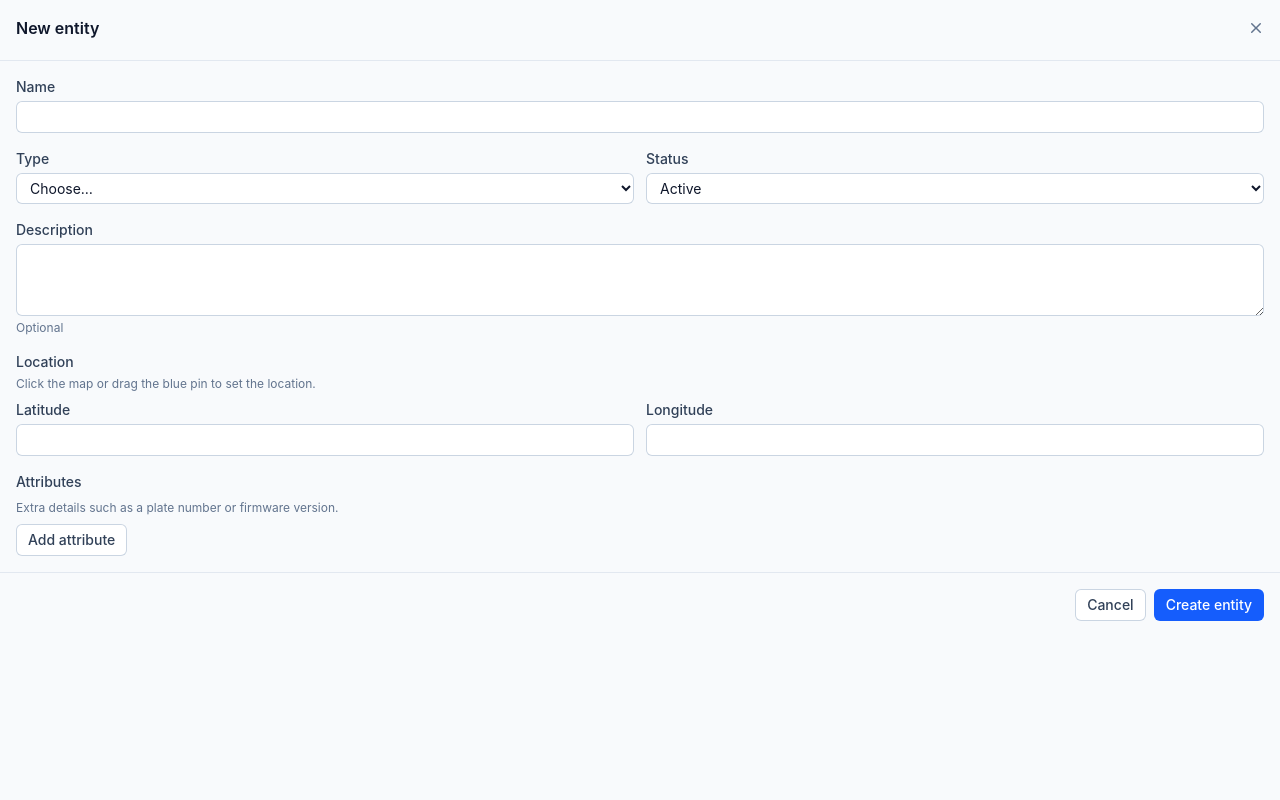
Test: EntityForm › shows every client-side error and does not submit
Click the button "Create entity": (1209, 605) x1=1154 y1=589 x2=1264 y2=621
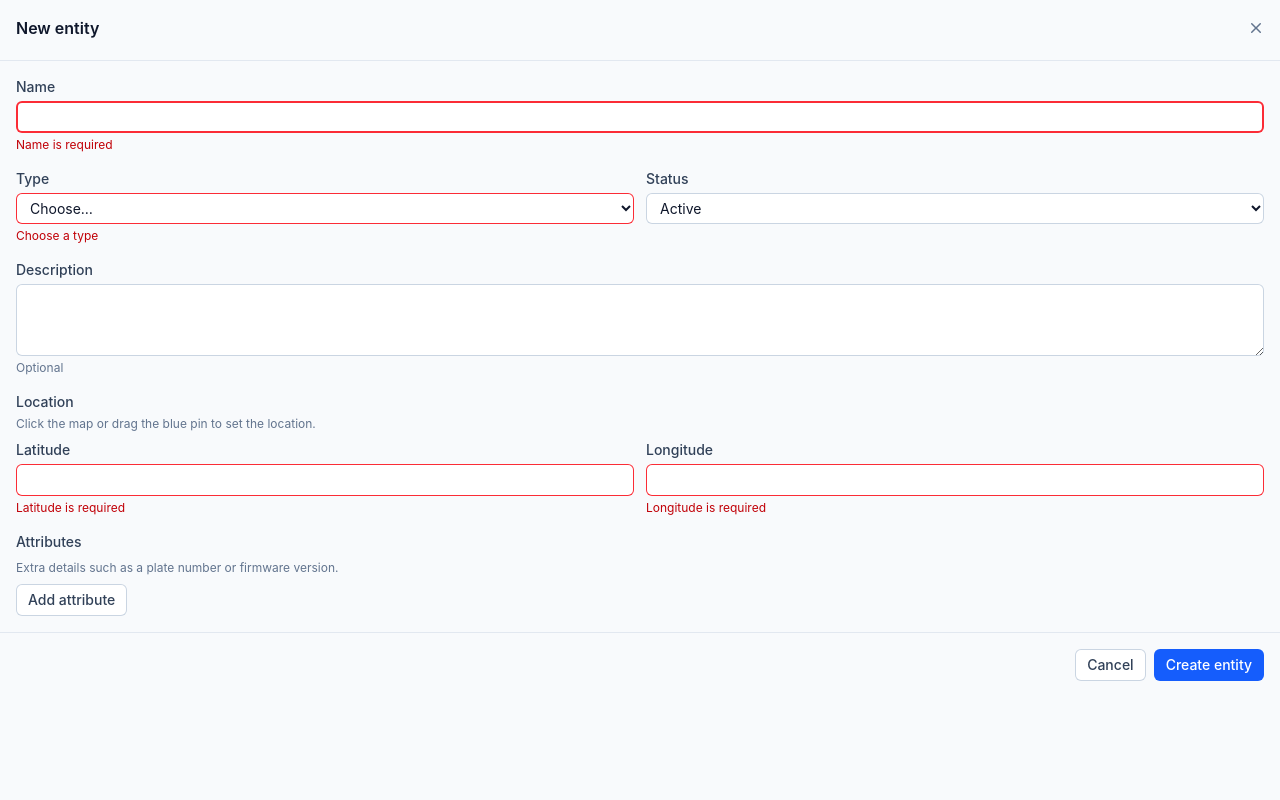
Now the text "Name is required" is shown, box x1=16 y1=137 x2=113 y2=152
Now the text "Choose a type" is shown, box x1=16 y1=228 x2=98 y2=243
Now the text "Latitude is required" is shown, box x1=16 y1=500 x2=125 y2=515
